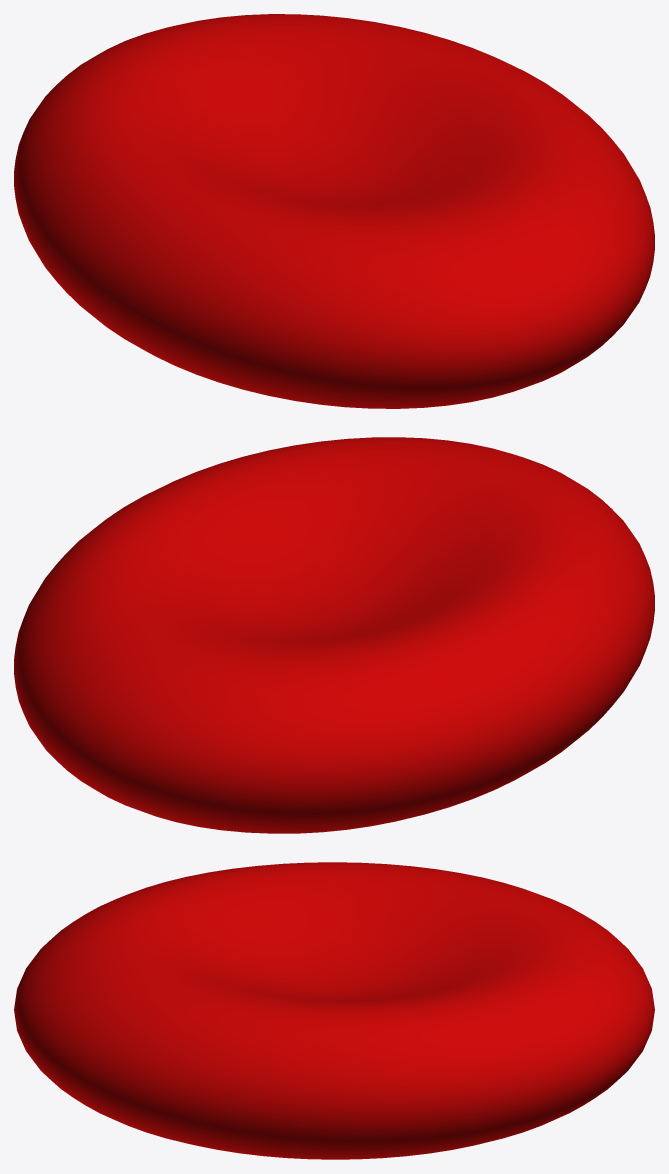
File: Blood_Cell.fbx
3 renders of one model, top to bottom at view 1: azimuth 30°, elevation 25°; view 2: azimuth 150°, elevation 25°; view 3: azimuth 270°, elevation 25°, orthographic. The views are drawn at different scales.
Visible parts, largest first — view 1: Sphere; view 2: Sphere; view 3: Sphere.
Part boxes in pixels (x1,y1,x2,y2): Sphere: (14, 14, 654, 408); Sphere: (14, 437, 654, 833); Sphere: (14, 862, 654, 1159).
Bounding box in the file's own units: 155 × 49.51 × 197.
